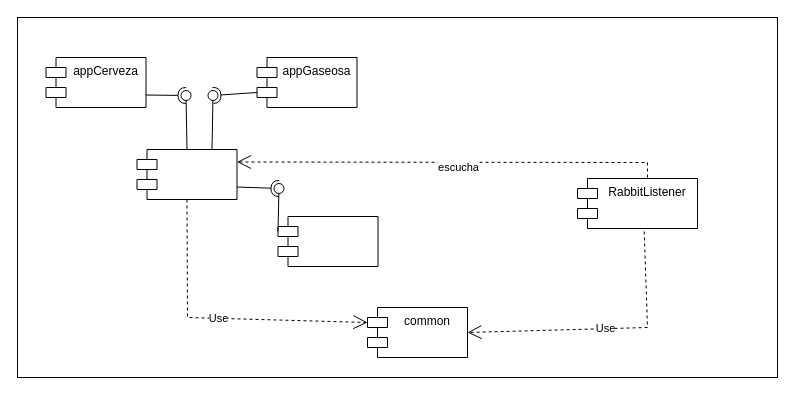
Some shapes in this 795 by 395 pixel diagram are drawn without their labels. The shapes that lost their labels are listed below. From the top down, each one's centre as x and y in pixels, then its label:
point (186, 174): Main(core)
point (327, 241): Rabbit
